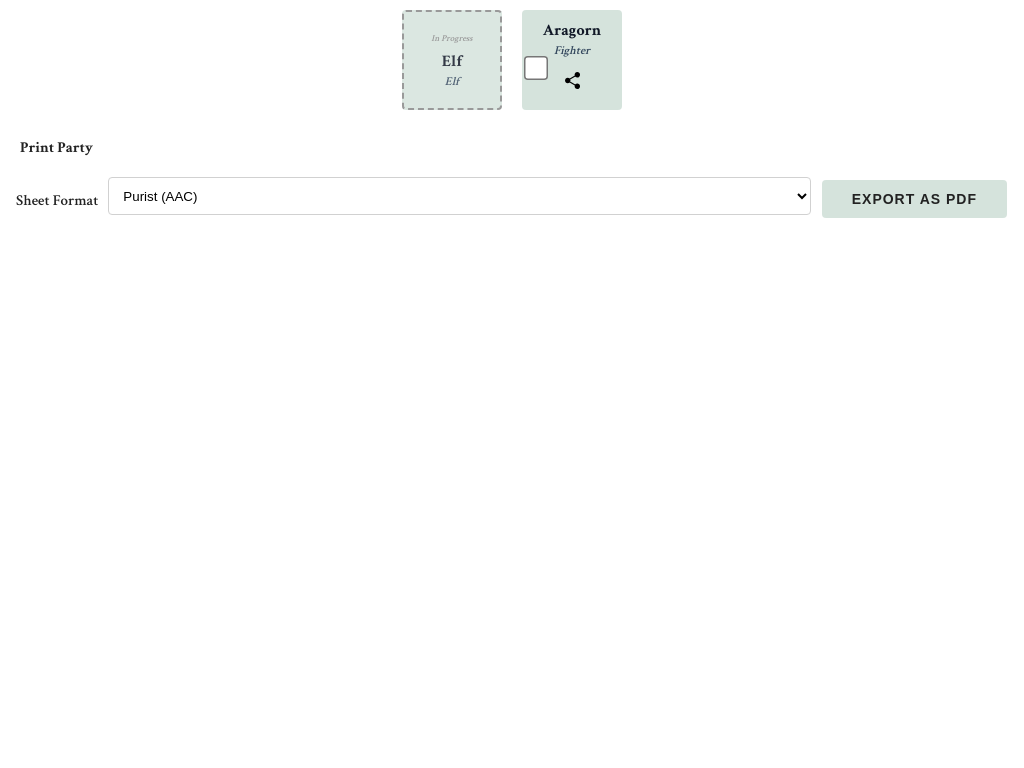
Test: CharacterStorage — confirmation modal when partial is in progress › shows a confirmation modal when a saved character is clicked
Click the button "Aragorn" at (572, 30), box [543, 20, 601, 40]
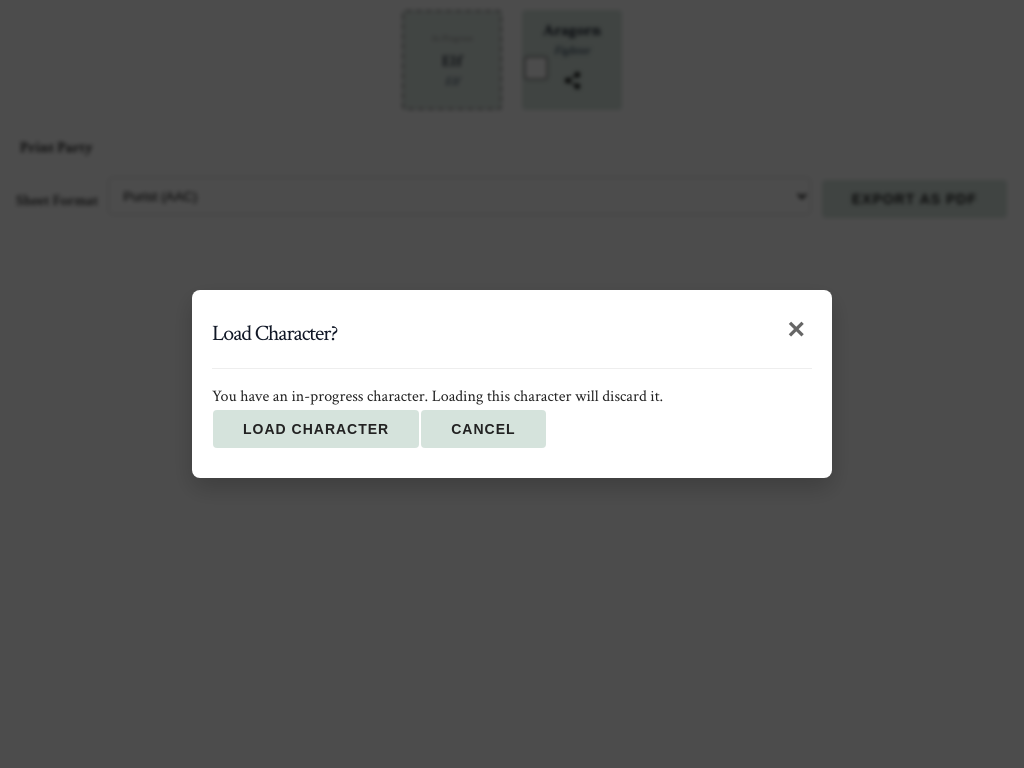
Result: the dialog is shown at [192, 290, 832, 478]
